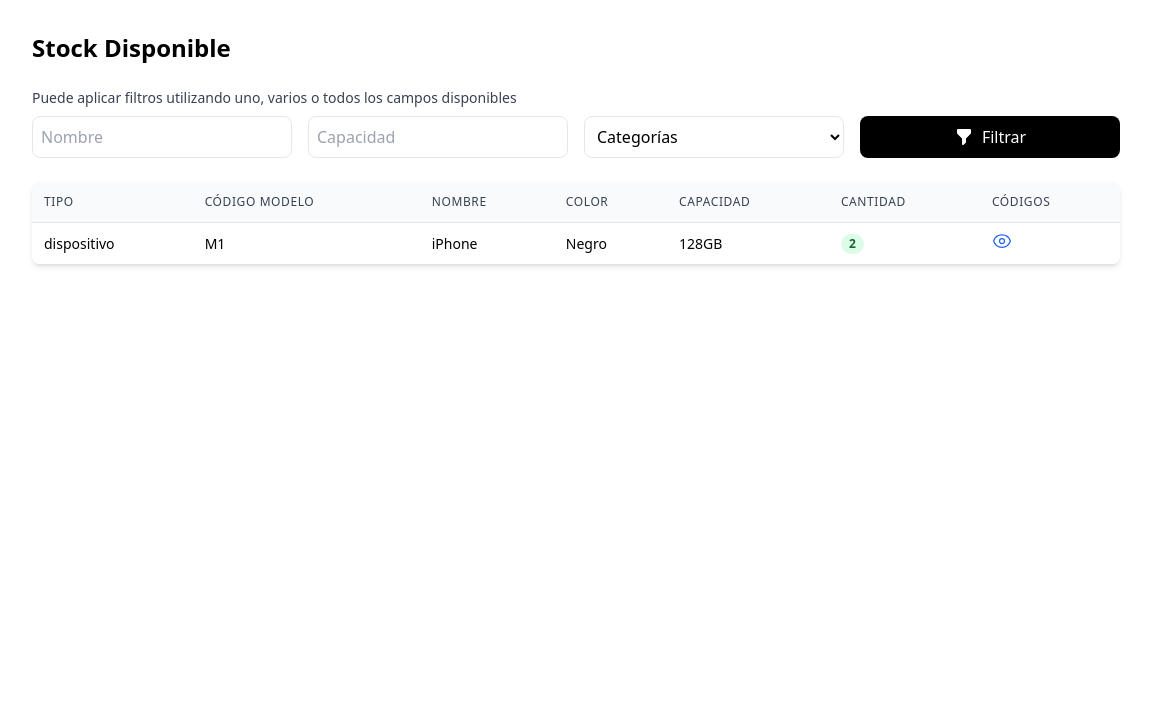
Stock › abre y cierra el modal de códigos
Expected: the text "iPhone" is shown, [420,222,554,264]
Click the button titled "Ver códigos de barra" at {"x": 1002, "y": 241}, box [992,231,1012,251]
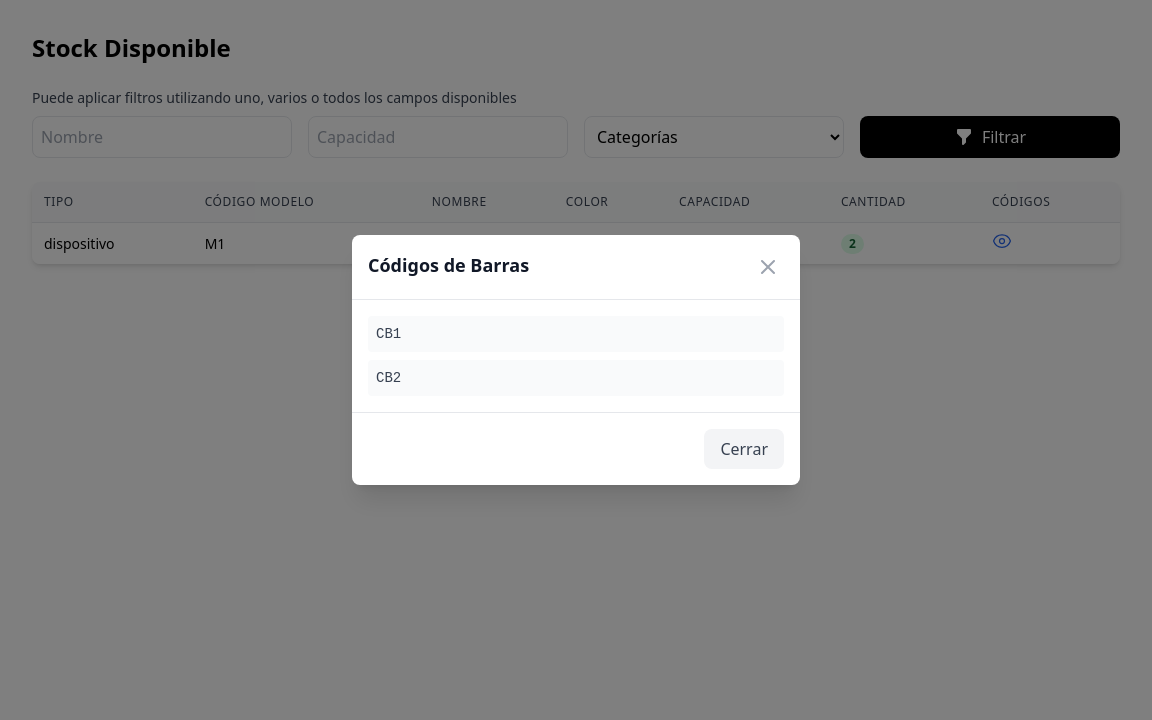
Expected: the heading "Códigos de Barras" is shown, [368,251,529,279]
Expected: the text "CB1" is shown, [376,324,401,344]
El segundo botón es el visible en el modal
Click the button "Cerrar" at {"x": 744, "y": 449}, box [704,429,784,469]
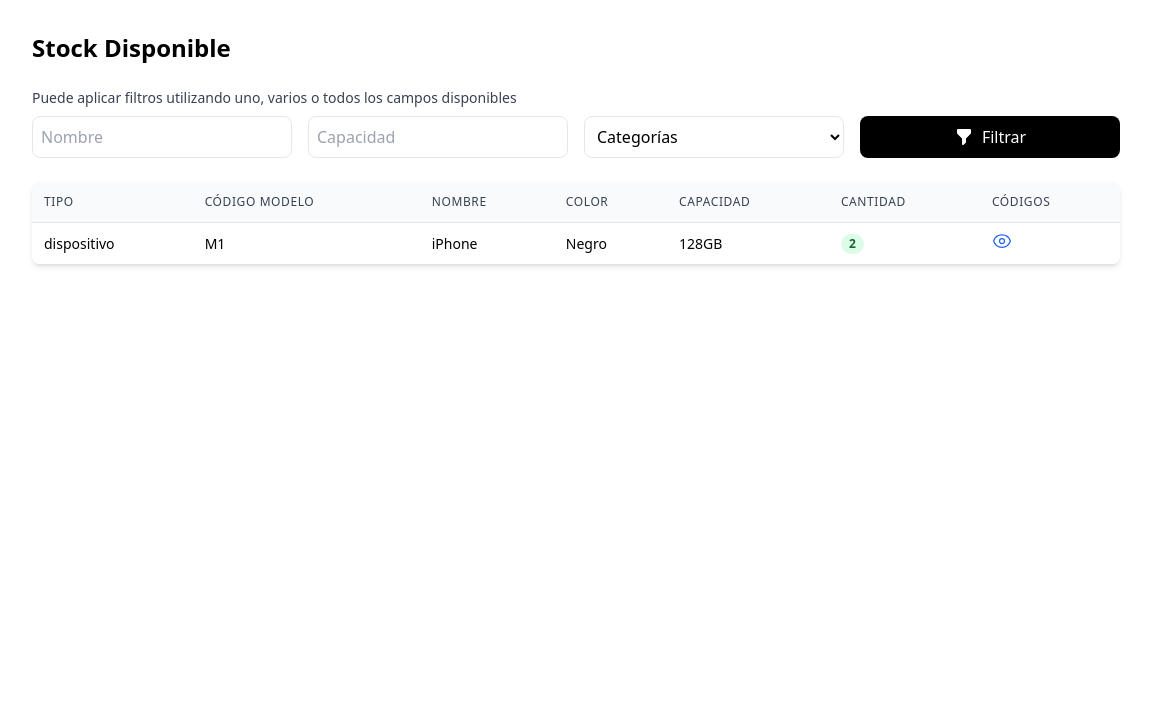
Expected: the heading "Códigos de Barras" is gone
